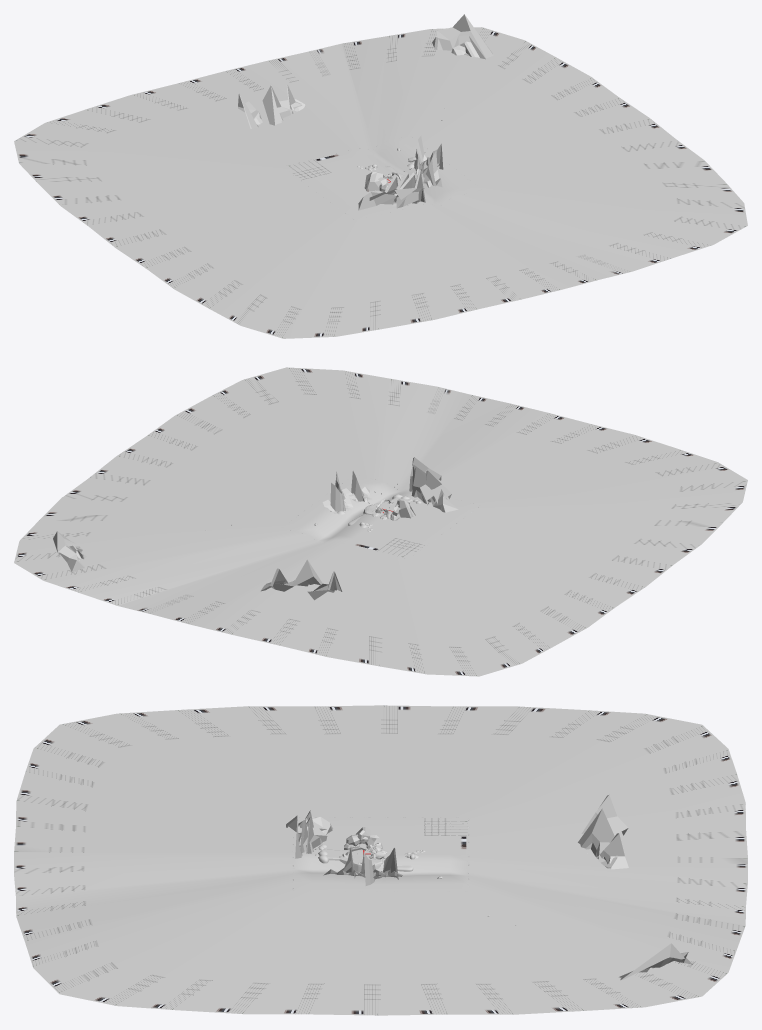
The model's file is Level2Env.fbx.
The picture shows the model from 3 angles, top to bottom: view 1: azimuth 30°, elevation 25°; view 2: azimuth 150°, elevation 25°; view 3: azimuth 270°, elevation 25°; orthographic projection. The views are drawn at different scales.
Parts seen in each view (by area): view 1: pPlane2, pasted__pCube157, pasted__pCube156, pasted__pasted__pCube160, pCube156; view 2: pPlane2, pasted__pCube157, pasted__pCube156; view 3: pPlane2, pasted__pCube156, pasted__pCube157, pasted__pasted__pasted__pCube156, pasted__pasted__pCube162, Ground.
Part boxes in pixels (box(x1,y1,x2,y2)): pPlane2: box(14, 27, 747, 338); pasted__pCube157: box(432, 14, 493, 59); pasted__pCube156: box(262, 85, 305, 125); pasted__pasted__pCube160: box(392, 170, 425, 208); pCube156: box(358, 172, 418, 210); pPlane2: box(14, 367, 747, 676); pasted__pCube157: box(53, 531, 86, 572); pasted__pCube156: box(266, 559, 322, 591); pPlane2: box(14, 705, 747, 1015); pasted__pCube156: box(578, 808, 617, 868); pasted__pCube157: box(619, 943, 691, 980); pasted__pasted__pasted__pCube156: box(581, 795, 628, 835); pasted__pasted__pCube162: box(597, 833, 628, 869); Ground: box(322, 843, 385, 865).
Bounding box in the file's own units: 13575 × 1646 × 13575.
